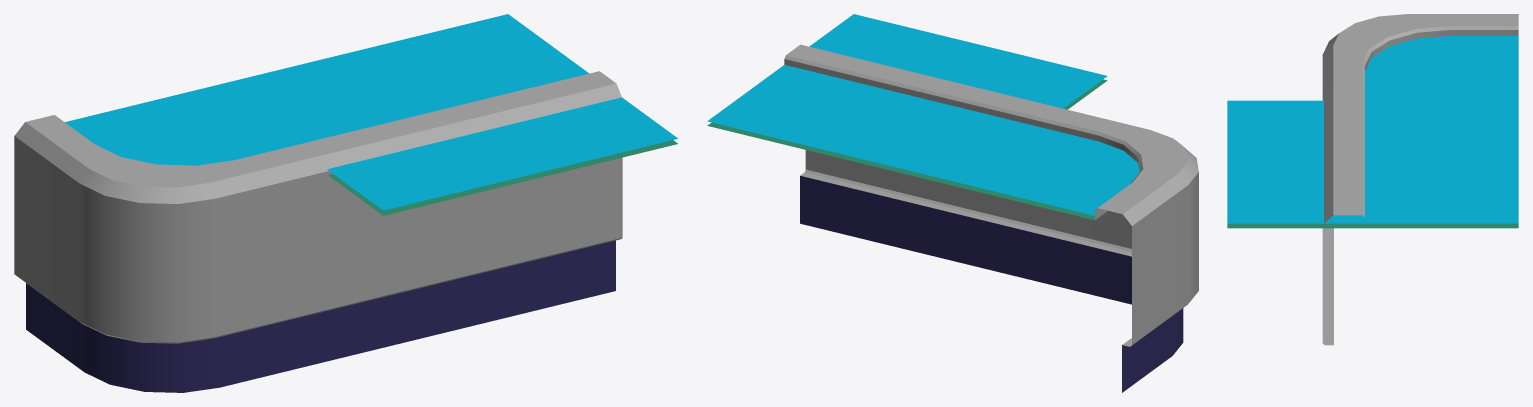
The model's file is Garden.fbx.
3 renders of one model, left to right at view 1: azimuth 30°, elevation 25°; view 2: azimuth 150°, elevation 25°; view 3: azimuth 270°, elevation 25°, orthographic. The views are drawn at different scales.
Parts seen in each view (by area): view 1: garden_c_lod0, garden_lod0, garden_sp_lod0; view 2: garden_c_lod0, garden_sp_lod0, garden_lod0; view 3: garden_sp_lod0, garden_lod0, garden_c_lod0.
Part boxes in pixels (left/top/right/bottom): garden_c_lod0: left=14, top=86, right=327, bottom=392; garden_lod0: left=213, top=14, right=622, bottom=362; garden_sp_lod0: left=215, top=18, right=677, bottom=215; garden_c_lod0: left=961, top=106, right=1198, bottom=392; garden_sp_lod0: left=714, top=14, right=1107, bottom=187; garden_lod0: left=707, top=44, right=1059, bottom=285; garden_sp_lod0: left=1227, top=100, right=1518, bottom=228; garden_lod0: left=1322, top=92, right=1518, bottom=345; garden_c_lod0: left=1322, top=14, right=1518, bottom=100.
Size of what is drawn, in the model's own units: 1.67 by 0.6728 by 1.
